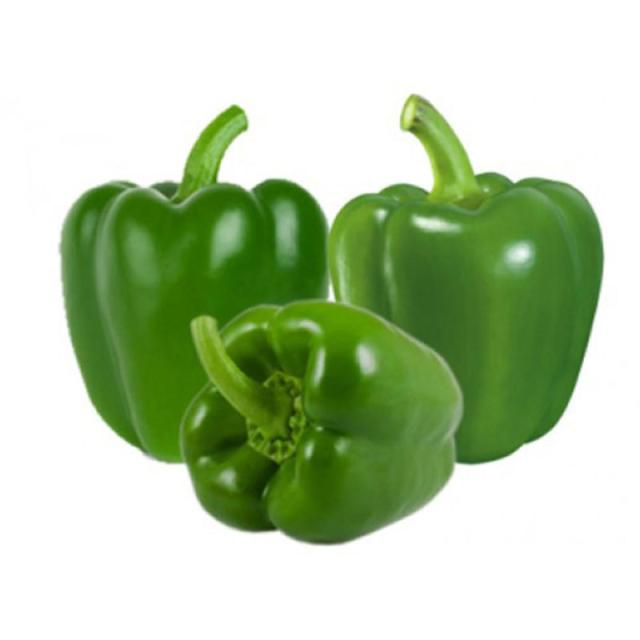Capsicum: (330, 98, 602, 460), (62, 109, 324, 464), (176, 306, 465, 544)
